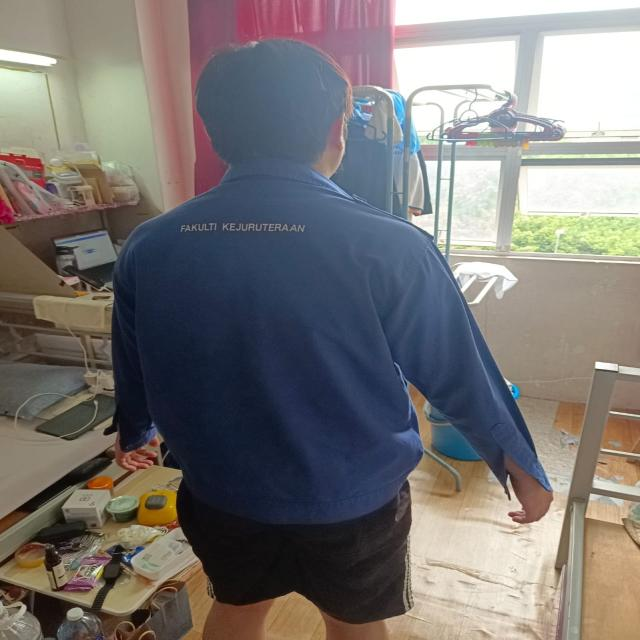person_with_labcoat: (108, 39, 552, 640)
